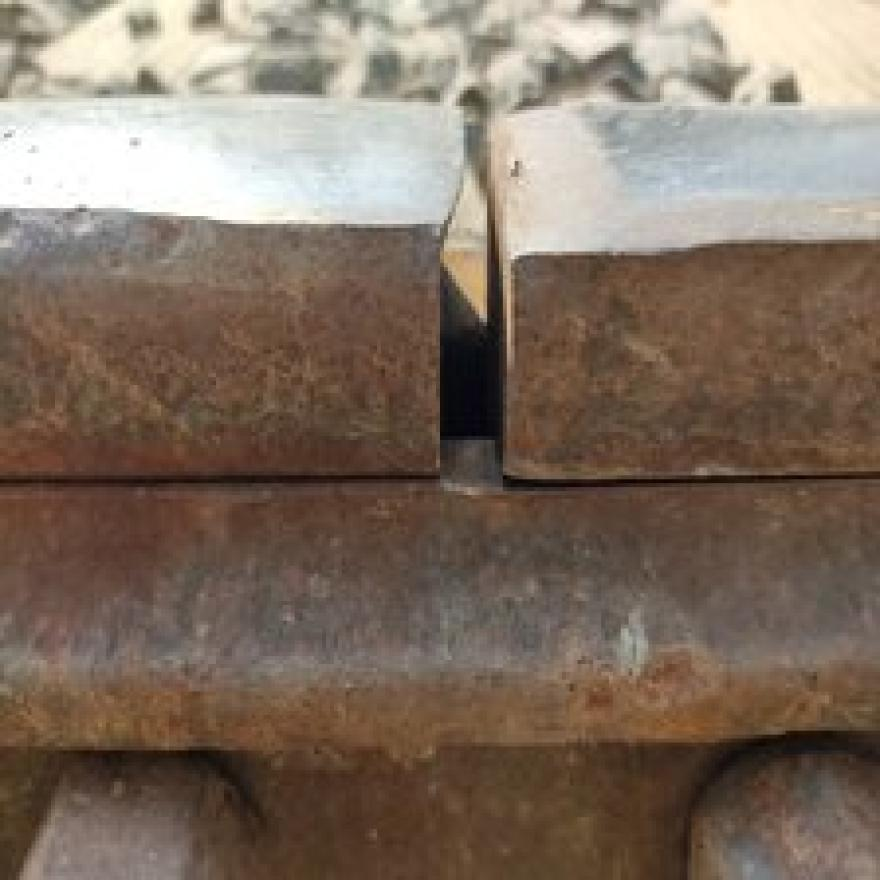railway-gap: (211, 64, 735, 532)
